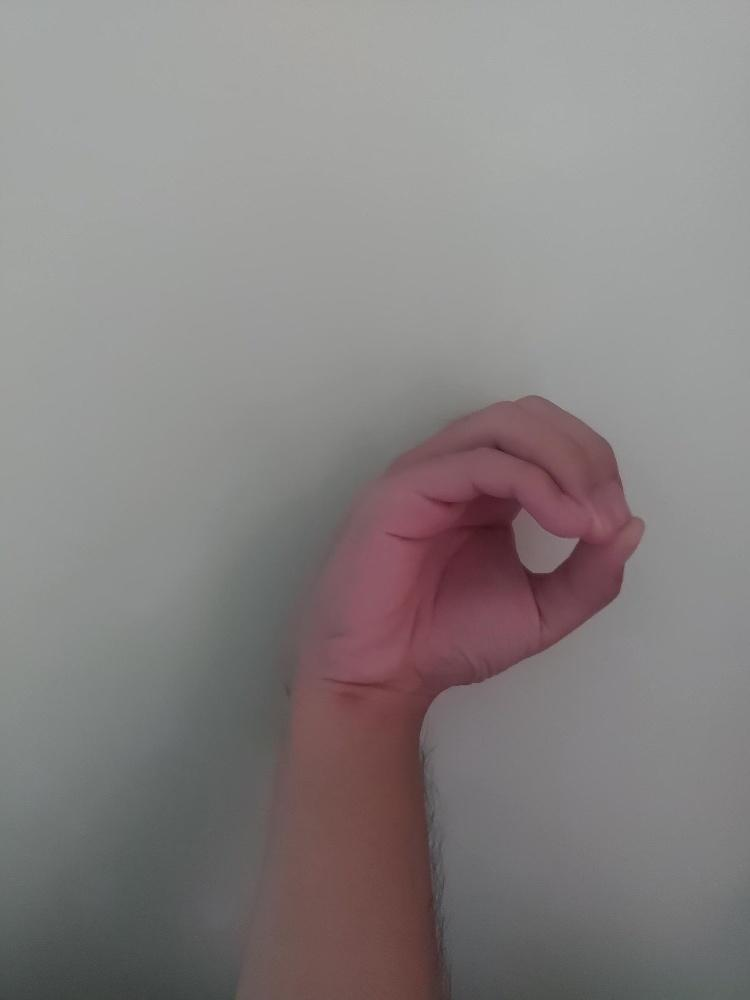o: (295, 391, 647, 696)
